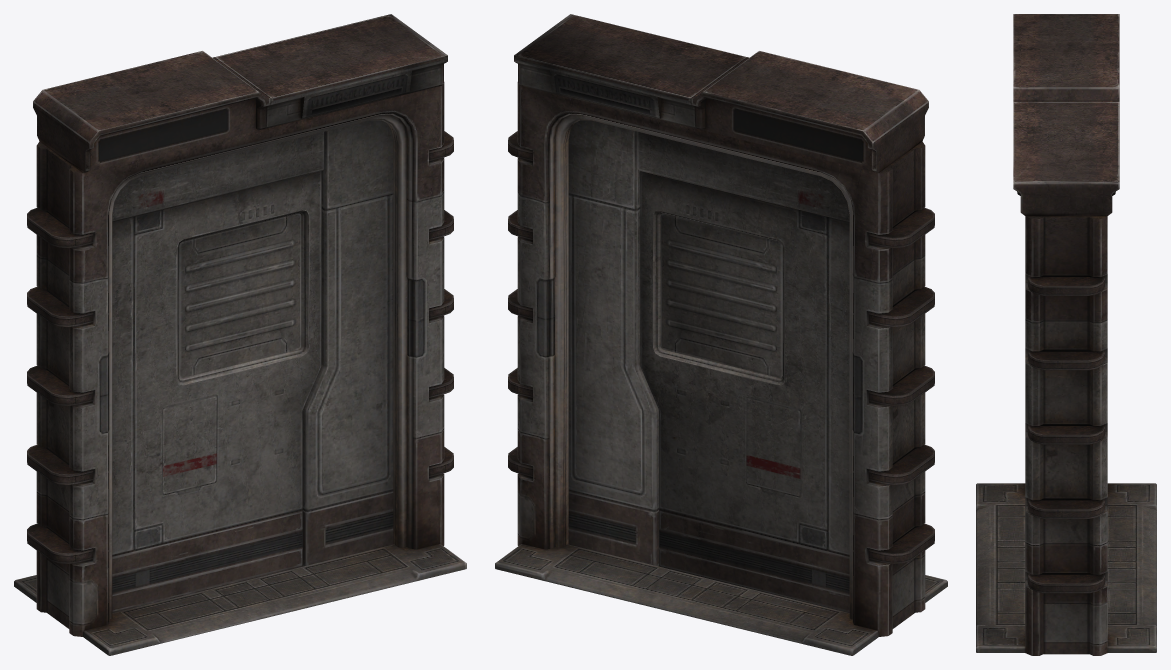
The model's file is slidedoor_medium_interlock.dae.
The picture shows the model from 3 angles, left to right: view 1: azimuth 30°, elevation 25°; view 2: azimuth 150°, elevation 25°; view 3: azimuth 270°, elevation 25°; orthographic projection. The views are drawn at different scales.
Visible parts, largest first — view 1: frame__2_, door_part_left__2_, door_part_right__2_; view 2: frame__2_, door_part_left__2_, door_part_right__2_; view 3: frame__2_.
Part boxes in pixels (box(x1,y1,x2,y2)): frame__2_: box(14, 14, 466, 655); door_part_left__2_: box(112, 132, 324, 612); door_part_right__2_: box(303, 120, 393, 566); frame__2_: box(495, 14, 947, 655); door_part_left__2_: box(637, 132, 849, 612); door_part_right__2_: box(568, 120, 658, 566); frame__2_: box(976, 14, 1156, 655).
Size of the model in its own units: 2.66 by 3.22 by 1.1.
